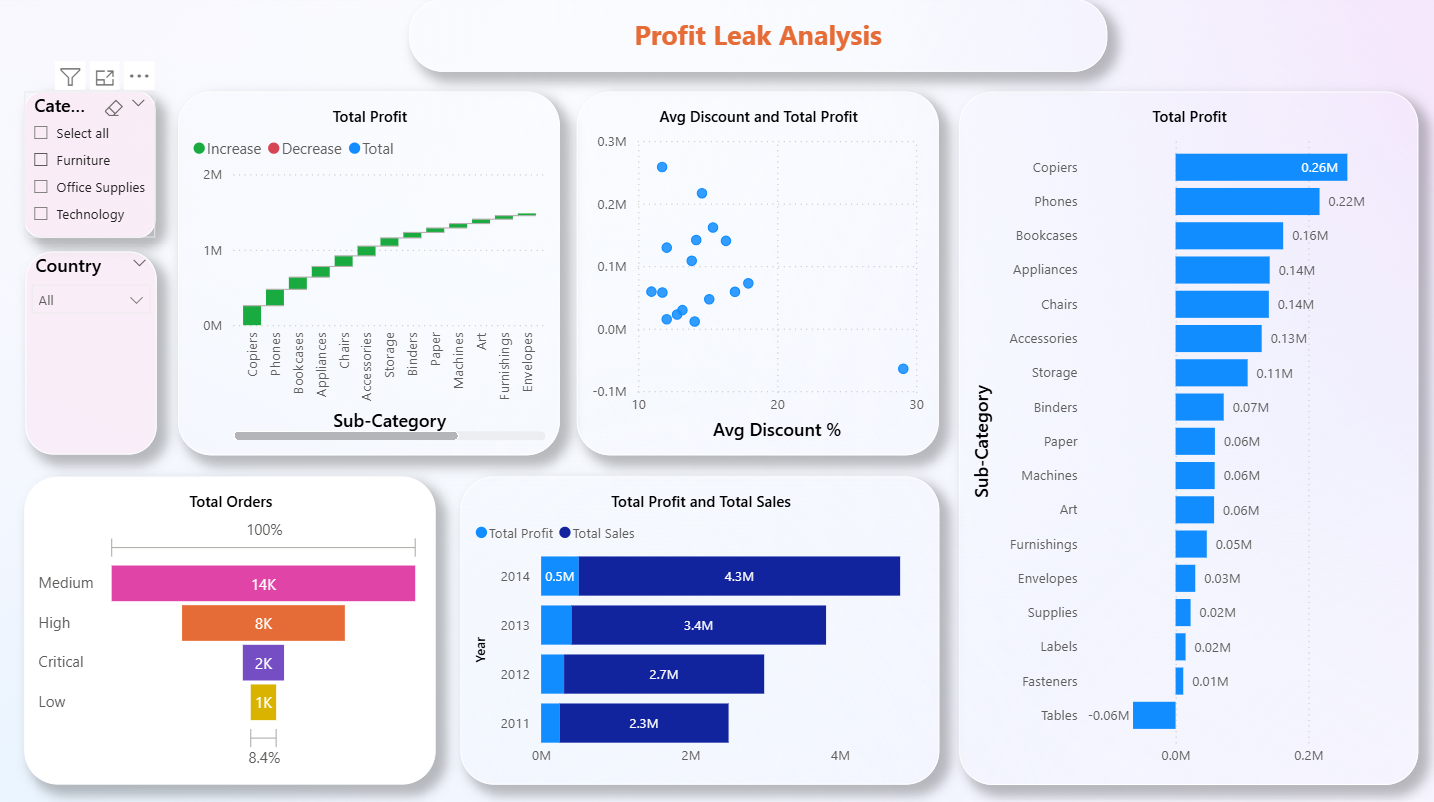

Layout of this report page (visuals, bound fields, positions):
{"tool":"powerbi","page":{"name":"Page 2","canvas":[1280,720],"ordinal":1},"visuals":[{"type":"waterfallChart","title":"Total Profit","fields":{"Category":["Global_Superstore2.Sub-Category"],"Y":["Global_Superstore2.Total Profit"]},"box":[160.5,82.3,340.3,323.8],"z":0},{"type":"scatterChart","title":"Avg Discount and Total Profit","fields":{"X":["Global_Superstore2.Avg Discount %"],"Y":["Global_Superstore2.Total Profit"],"Category":["Global_Superstore2.Sub-Category"]},"box":[516,82.3,322.5,323.8],"z":1000},{"type":"funnel","title":"Total Orders","fields":{"Category":["Global_Superstore2.Order Priority"],"Y":["Global_Superstore2.Total Orders"]},"box":[23.3,425.4,366.4,274.4],"z":2000},{"type":"clusteredBarChart","title":"Total Profit","fields":{"Category":["Global_Superstore2.Sub-Category"],"Y":["Global_Superstore2.Total Profit"]},"box":[856.3,82.3,408.9,617.5],"z":3000},{"type":"barChart","title":"Total Profit and Total Sales","fields":{"Category":["Global_Superstore2.Order Date.Variation.Date Hierarchy.Year","Global_Superstore2.Order Date.Variation.Date Hierarchy.Quarter","Global_Superstore2.Order Date.Variation.Date Hierarchy.Month","Global_Superstore2.Order Date.Variation.Date Hierarchy.Day"],"Y":["Global_Superstore2.Total Profit","Global_Superstore2.Total Sales"]},"box":[411.7,425.4,426.8,274.4],"z":4000},{"type":"slicer","fields":{"Values":["Global_Superstore2.Category"]},"box":[23.3,82.3,116.6,130.4],"z":5000},{"type":"textbox","box":[366.4,0,621.6,64.5],"z":6000},{"type":"slicer","fields":{"Values":["Global_Superstore2.Country"]},"box":[24.7,225,116.6,181.1],"z":7000}]}

Visuals, with their boxes in screenshot pixels (x1, y1, x2, y2), scaled from the page's 1280x720 canvas onto the 1434x802 screenshot:
"Total Profit" waterfallChart: pyautogui.locateOnScreen(180, 92, 561, 452)
"Avg Discount and Total Profit" scatterChart: pyautogui.locateOnScreen(578, 92, 939, 452)
"Total Orders" funnel: pyautogui.locateOnScreen(26, 474, 437, 779)
"Total Profit" clusteredBarChart: pyautogui.locateOnScreen(959, 92, 1417, 779)
"Total Profit and Total Sales" barChart: pyautogui.locateOnScreen(461, 474, 939, 779)
slicer - Global_Superstore2.Category: pyautogui.locateOnScreen(26, 92, 157, 237)
textbox: pyautogui.locateOnScreen(410, 0, 1107, 72)
slicer - Global_Superstore2.Country: pyautogui.locateOnScreen(28, 251, 158, 452)
